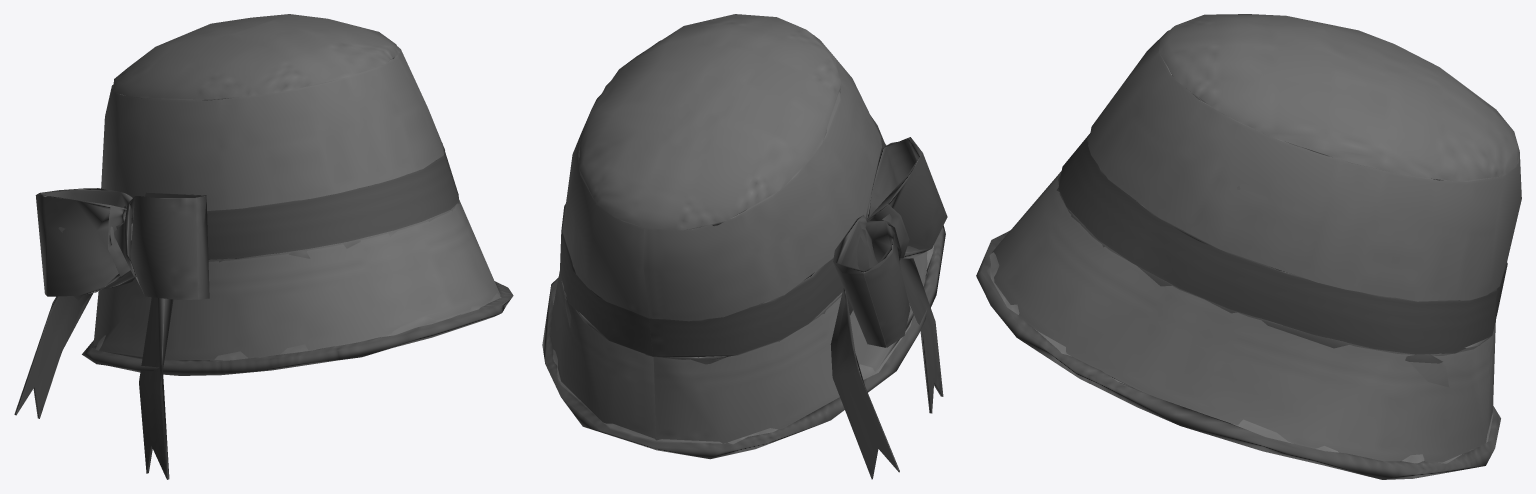
The model's file is clochehat.glb.
The picture shows the model from 3 angles, left to right: view 1: azimuth 30°, elevation 25°; view 2: azimuth 150°, elevation 25°; view 3: azimuth 270°, elevation 25°; orthographic projection. The views are drawn at different scales.
Visible parts, largest first — view 1: Object_5, Object_3, Object_6, Object_2, Object_4; view 2: Object_5, Object_3, Object_6, Object_2, Object_4; view 3: Object_5, Object_3, Object_2, Object_4.
Boxes of the visible parts, <box> form: Object_5: <box>101,14,444,210</box>; Object_3: <box>93,197,501,360</box>; Object_6: <box>14,188,209,479</box>; Object_2: <box>207,143,458,259</box>; Object_4: <box>82,281,513,375</box>; Object_5: <box>562,14,881,321</box>; Object_3: <box>550,144,933,444</box>; Object_6: <box>830,137,947,479</box>; Object_2: <box>560,115,885,359</box>; Object_4: <box>542,225,945,459</box>; Object_5: <box>1088,14,1521,301</box>; Object_3: <box>989,171,1495,463</box>; Object_2: <box>1058,133,1507,354</box>; Object_4: <box>976,230,1500,479</box>.
Bounding box in the file's own units: 231 × 205 × 241.
4 materials, 4 textured.
